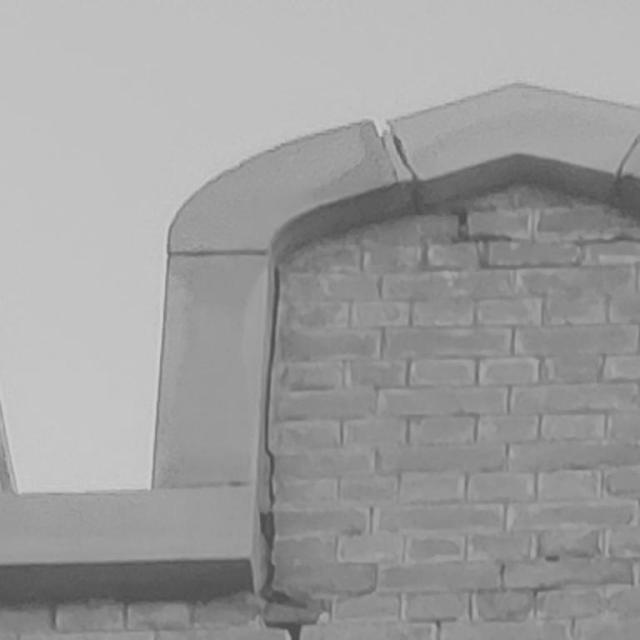crack: (259, 268, 318, 640), (412, 206, 510, 242)
